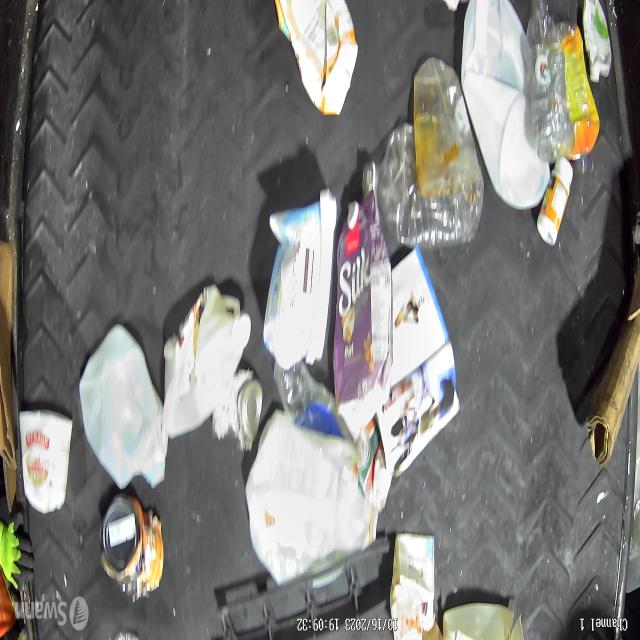can: (98, 489, 165, 604), (209, 368, 263, 452)
milk_jug: (243, 408, 381, 588), (460, 0, 552, 214), (77, 320, 170, 492), (161, 280, 251, 440)
non_white_jug: (330, 188, 394, 442), (273, 0, 359, 118)
plastic_bottle: (360, 120, 484, 250), (272, 358, 362, 481), (524, 0, 576, 169)
